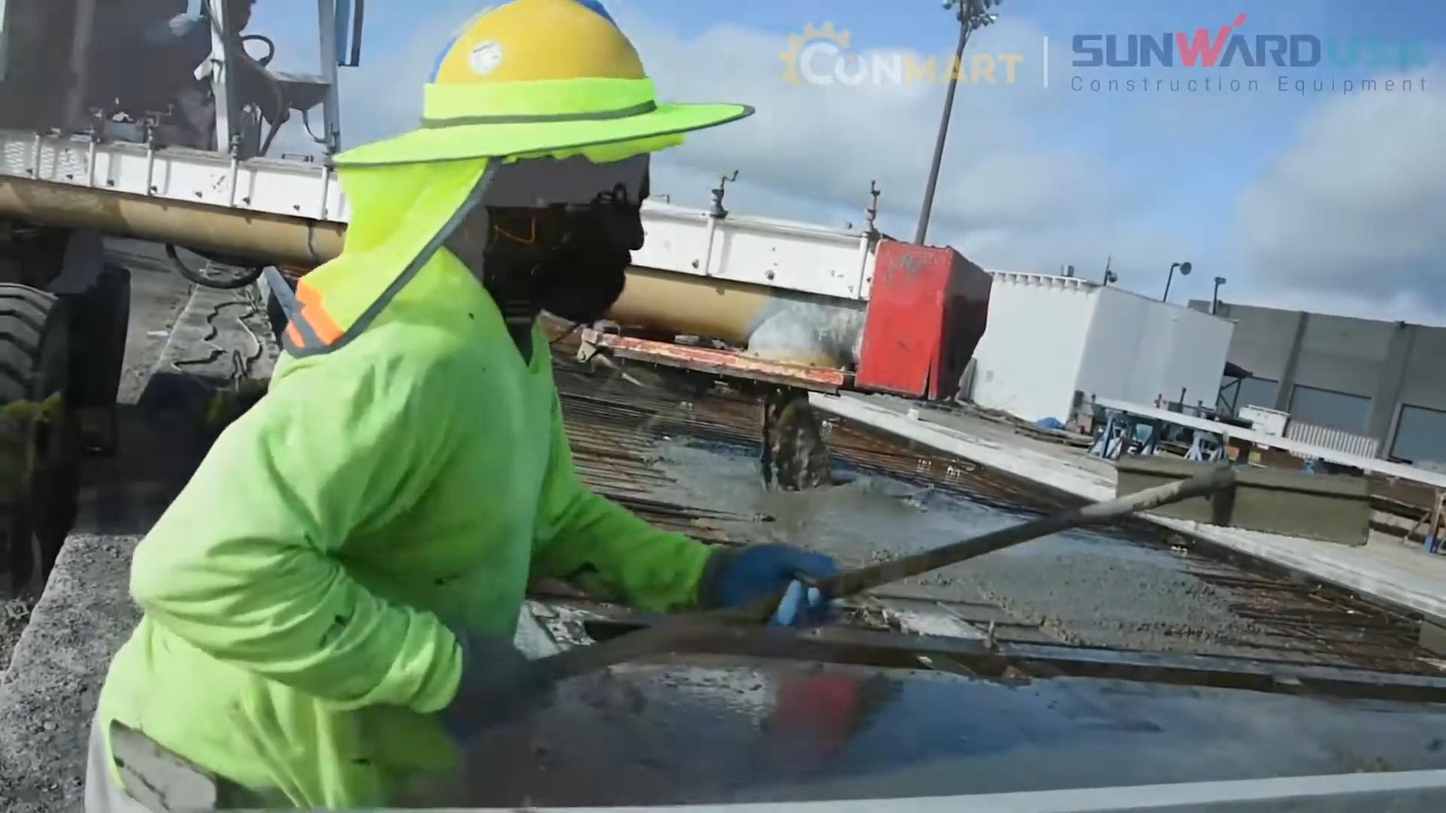Helmet: (328, 0, 755, 170), (418, 610, 540, 745), (700, 542, 827, 653)
Person: (120, 4, 815, 804)
no-vest: (252, 312, 525, 708)
